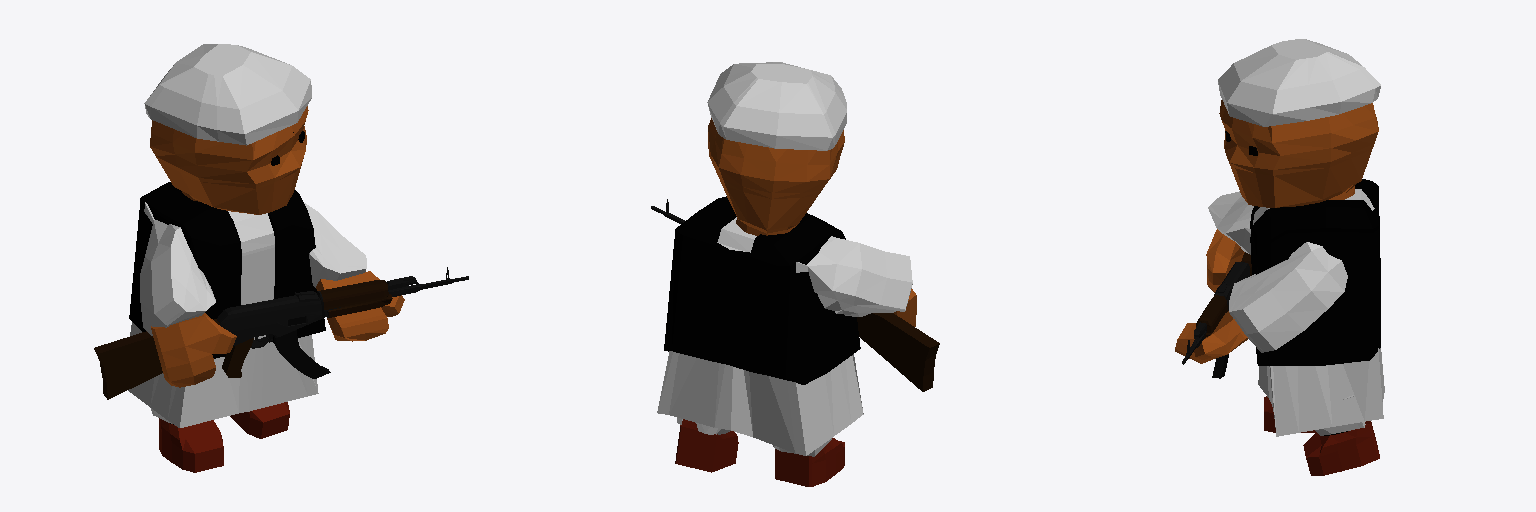
Rendered from terrorist2.obj.
3 renders of one model, left to right at view 1: azimuth 30°, elevation 25°; view 2: azimuth 150°, elevation 25°; view 3: azimuth 270°, elevation 25°, orthographic.
Parts seen in each view (by area): view 1: AK27.002_Cube.3246; view 2: AK27.002_Cube.3246; view 3: AK27.002_Cube.3246.
Boxes of the visible parts, x1,y1,x2,y2 form: AK27.002_Cube.3246: [94, 44, 468, 472]; AK27.002_Cube.3246: [651, 62, 939, 486]; AK27.002_Cube.3246: [1175, 39, 1384, 475].
Size of the model in its own units: 0.704 by 0.8083 by 0.3873.